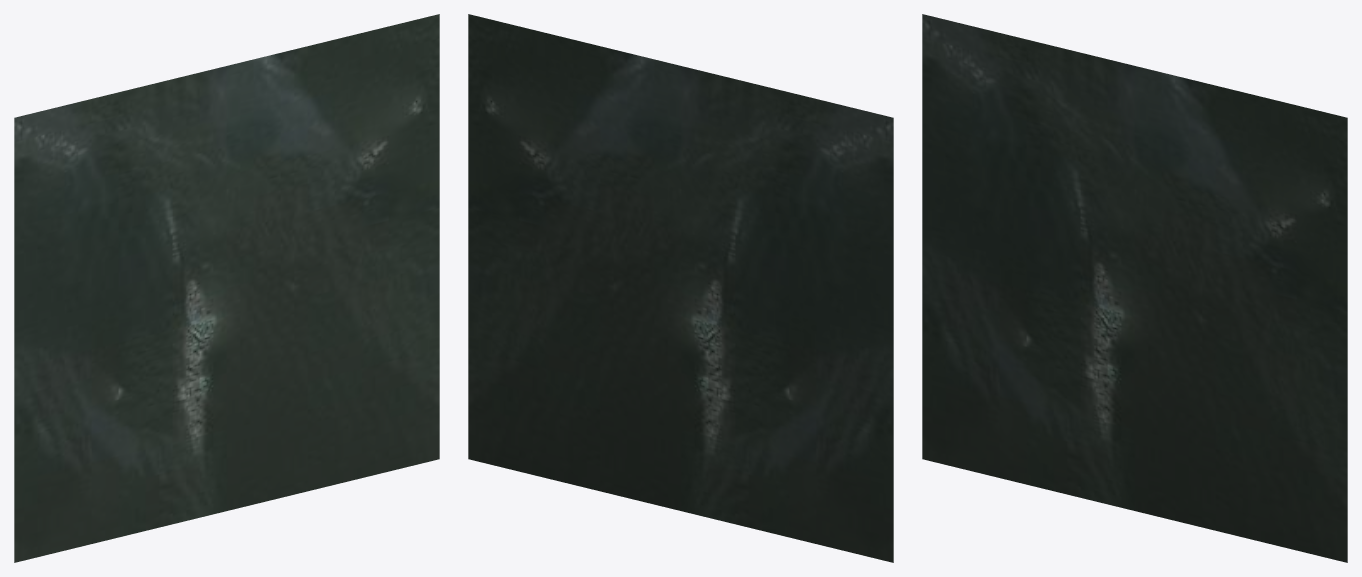
File: Tile_+038_+018_L17_0000.glb
3 renders of one model, left to right at view 1: azimuth 30°, elevation 25°; view 2: azimuth 150°, elevation 25°; view 3: azimuth 330°, elevation 25°, orthographic.
Size of the model in its own units: 126 by 126 by 0.
Materials: 1 (1 with a texture image).
